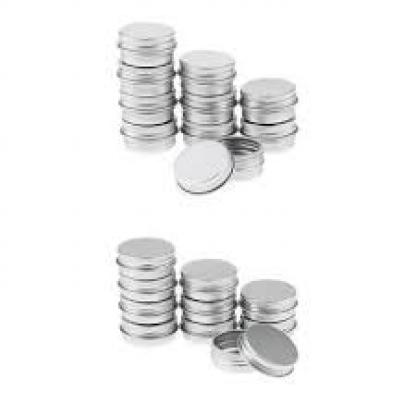METAL: (170, 139, 233, 192), (238, 324, 296, 374), (238, 76, 296, 122), (238, 279, 296, 322), (176, 50, 235, 92), (177, 259, 235, 299), (115, 238, 172, 278), (116, 26, 174, 61), (114, 61, 176, 92), (216, 135, 262, 176), (209, 329, 250, 370), (116, 118, 176, 146), (238, 118, 296, 146), (179, 89, 235, 118), (238, 312, 294, 338), (118, 94, 174, 120), (181, 296, 235, 322), (179, 314, 233, 340), (116, 276, 174, 300), (118, 312, 174, 336), (118, 298, 172, 320), (179, 118, 233, 140)
